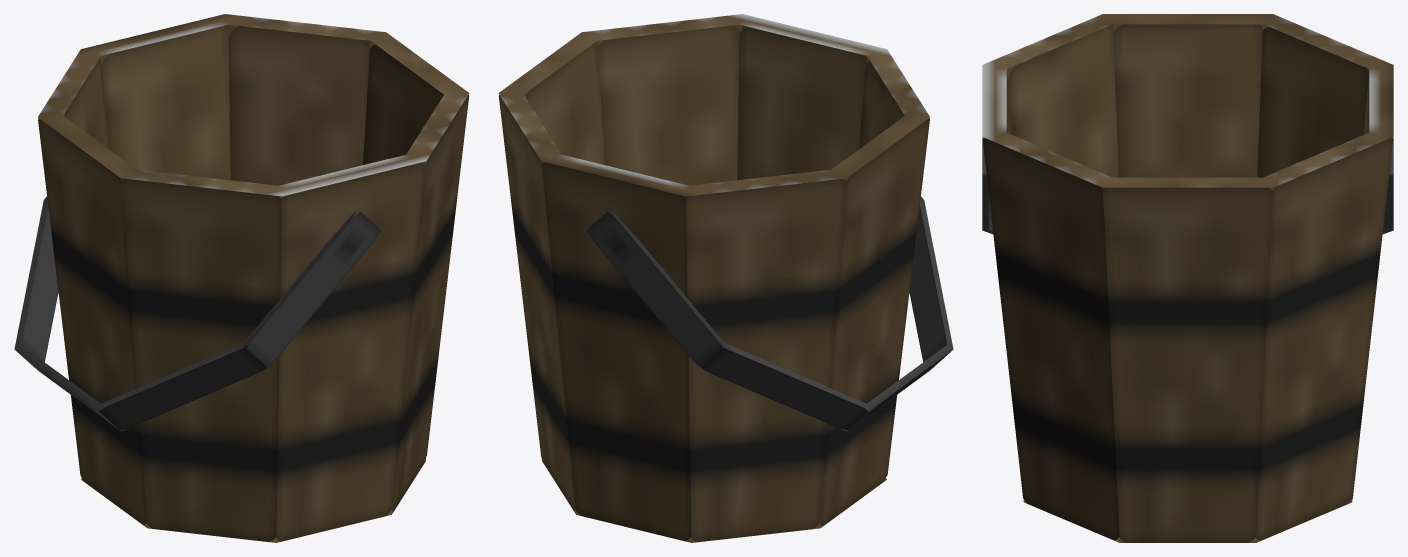
Rendered from Bucket.fbx.
3 renders of one model, left to right at view 1: azimuth 30°, elevation 25°; view 2: azimuth 150°, elevation 25°; view 3: azimuth 270°, elevation 25°, orthographic. The views are drawn at different scales.
Visible parts, largest first — view 1: base, handle; view 2: base, handle; view 3: base, handle.
Boxes of the visible parts, left/top/right/bottom form: base: left=38, top=14, right=469, bottom=542; handle: left=14, top=196, right=381, bottom=431; base: left=498, top=14, right=929, bottom=542; handle: left=586, top=196, right=953, bottom=431; base: left=982, top=14, right=1393, bottom=542; handle: left=982, top=138, right=1393, bottom=233.
Size of the model in its own units: 13.34 by 12.5 by 12.5.
Materials: 1 (1 with a texture image).
